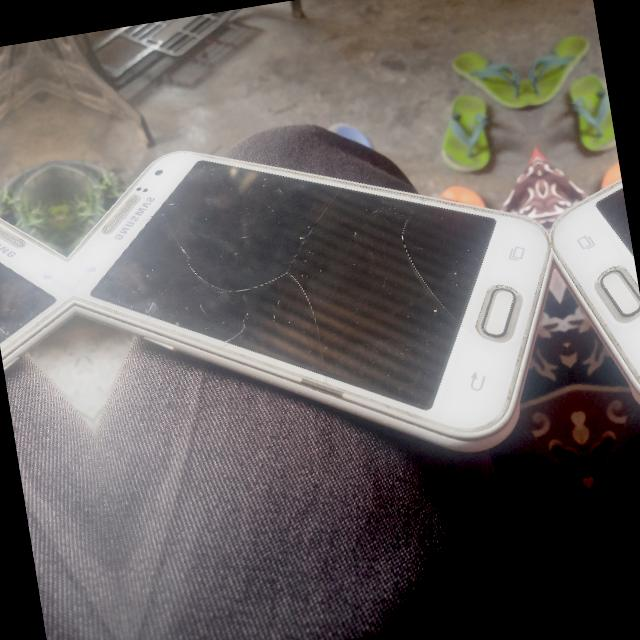phone_screen: (91, 161, 494, 409), (0, 263, 55, 343), (598, 189, 632, 253)
